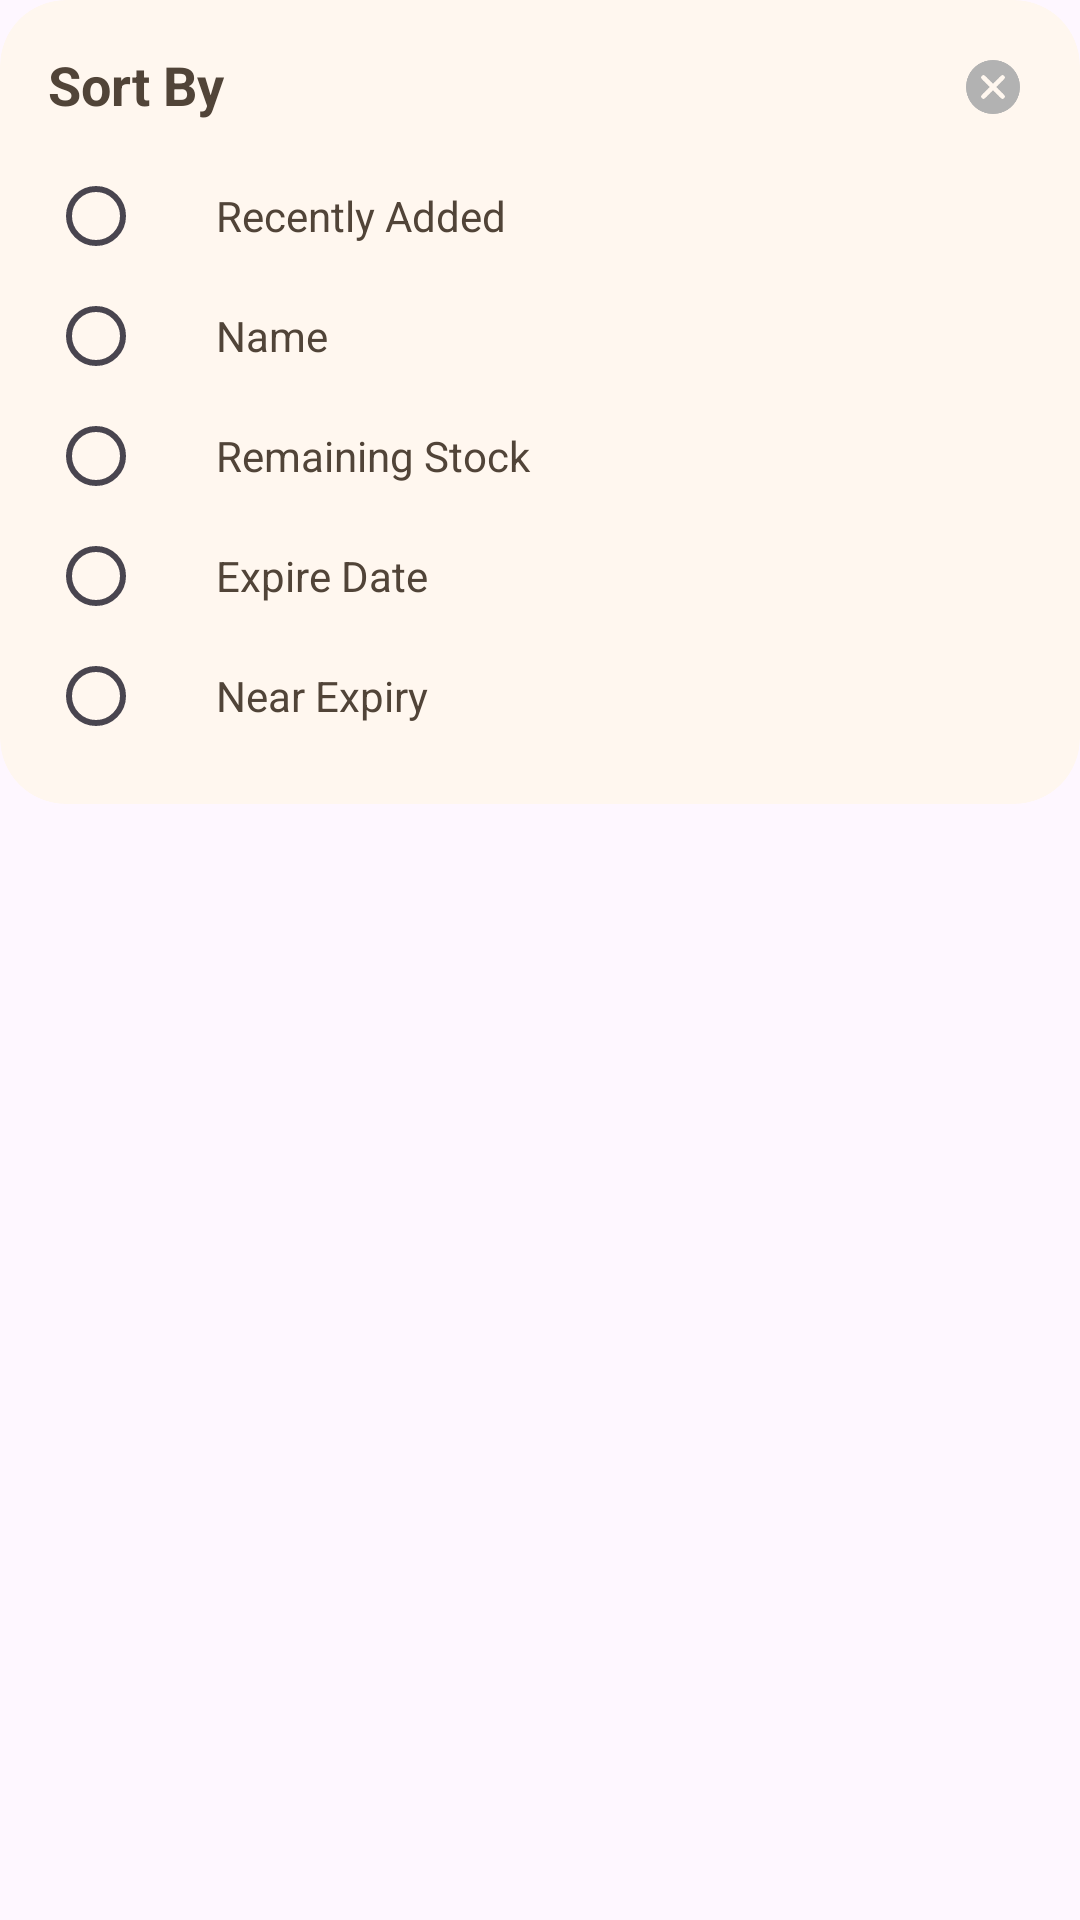

Point at icon controls on the screen. Image size 1080w x 1920h, points as [x,y].
close: [993,87]
